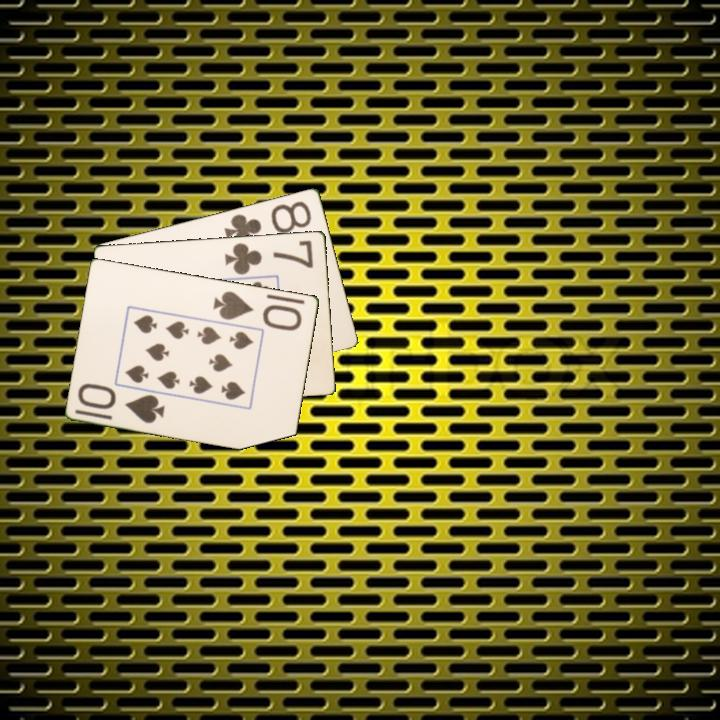10s: (210, 287, 305, 334), (74, 380, 168, 426)
7c: (221, 236, 316, 277)
8c: (221, 197, 314, 248)
